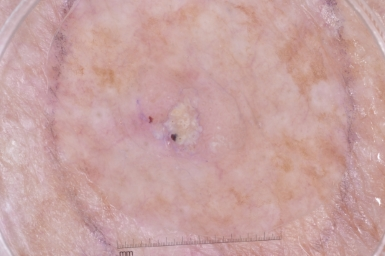seborrheic keratosis: (121, 71, 237, 174)
